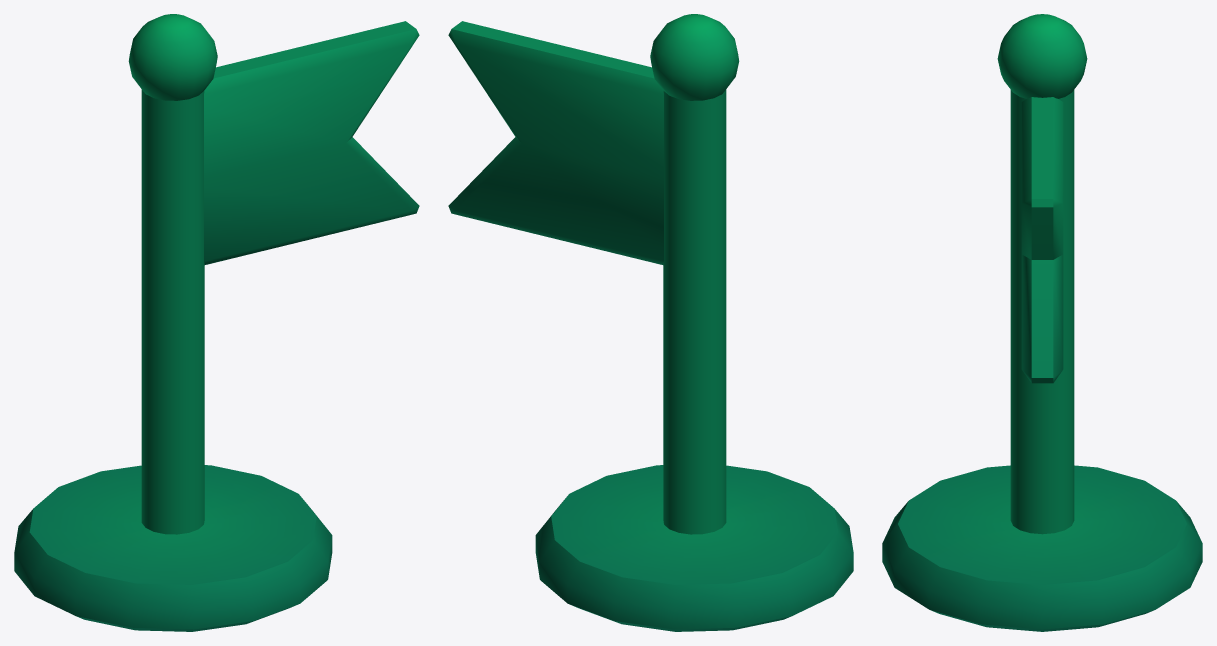
The model's file is flag_B_green.glb.
3 views of the same model, side by side, from view 1: azimuth 30°, elevation 25°; view 2: azimuth 150°, elevation 25°; view 3: azimuth 270°, elevation 25° (orthographic).
Visible parts, largest first — view 1: flag_B_green; view 2: flag_B_green; view 3: flag_B_green.
Part boxes in pixels (left/top/right/bottom): flag_B_green: left=14, top=14, right=419, bottom=631; flag_B_green: left=448, top=14, right=853, bottom=631; flag_B_green: left=882, top=14, right=1202, bottom=631.
Size of the model in its own units: 1.03 by 1.43 by 0.75.
Materials: 1 (1 with a texture image).
